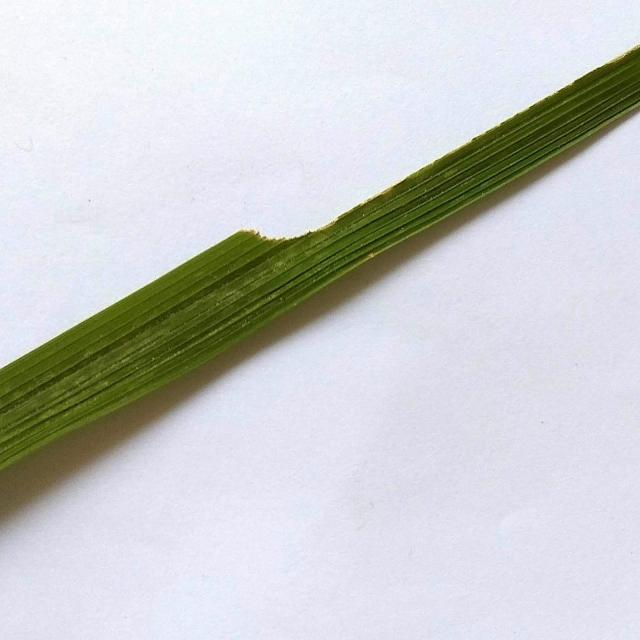healthy: (0, 36, 640, 473)
